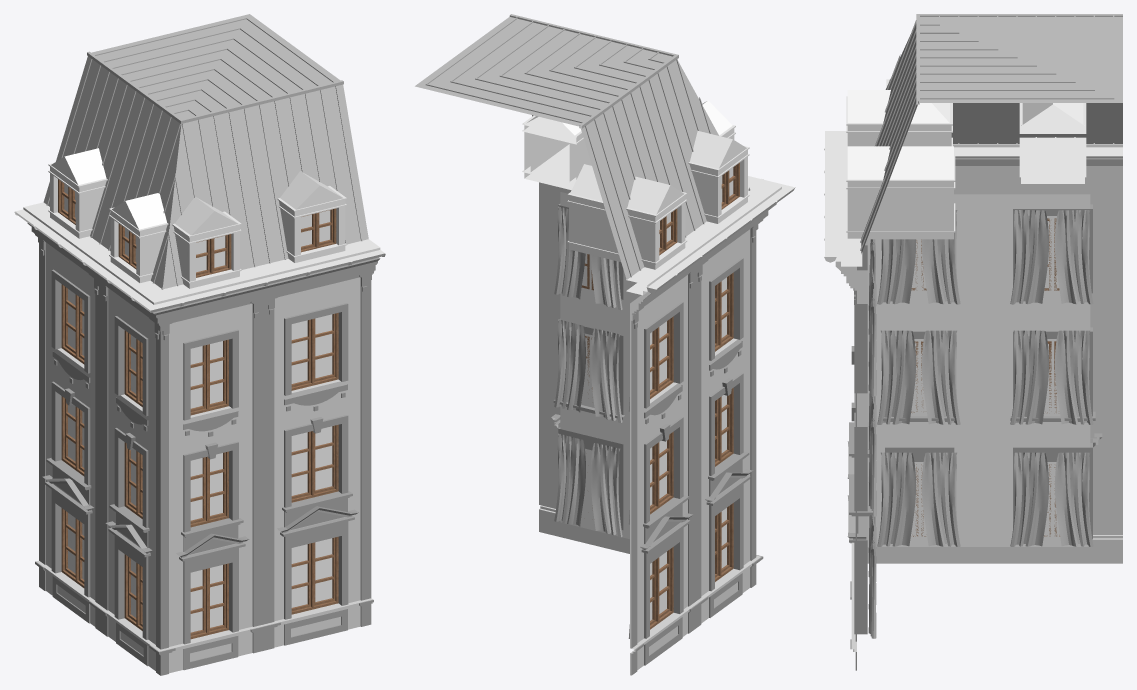
Rendered from Facade_Top_Small_Corner.fbx.
3 views of the same model, side by side, from view 1: azimuth 30°, elevation 25°; view 2: azimuth 150°, elevation 25°; view 3: azimuth 270°, elevation 25° (orthographic). The views are drawn at different scales.
Parts seen in each view (by area): view 1: Facade_Top_Small_Corner; view 2: Facade_Top_Small_Corner; view 3: Facade_Top_Small_Corner.
Boxes of the visible parts, bbox=[...] form: Facade_Top_Small_Corner: bbox=[14, 14, 385, 675]; Facade_Top_Small_Corner: bbox=[415, 14, 795, 675]; Facade_Top_Small_Corner: bbox=[824, 14, 1122, 670].
Size of the model in its own units: 6.23 by 13.22 by 6.23.
